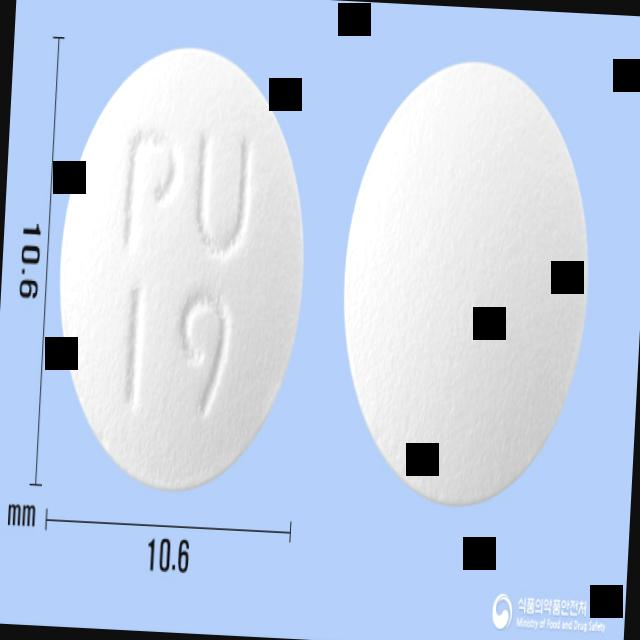Flori: (46, 37, 316, 497)
